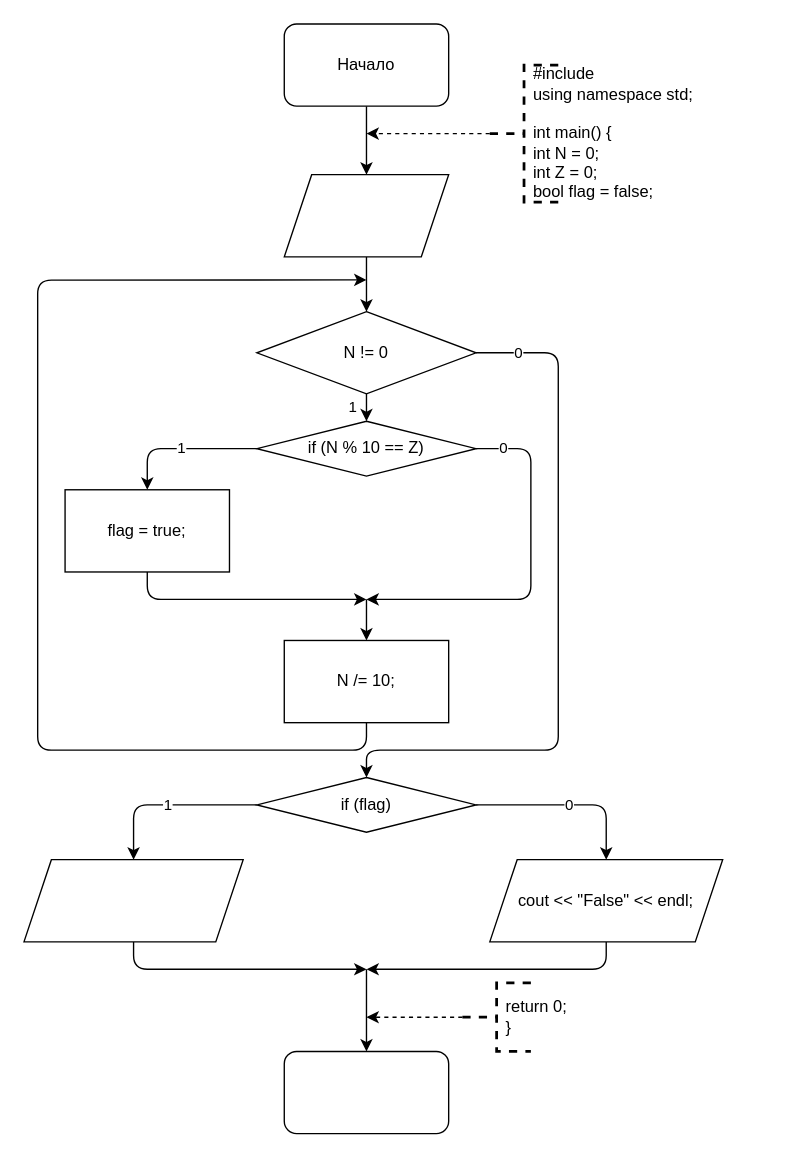
This 801x1158 diagram has some shape labels left out. The centre of each missing label's shape, as x and y in pixels:
cin >> N >> Z;: the point at 366,215
cout << "True" << endl;: the point at 133,900
Конец: the point at 366,1092
